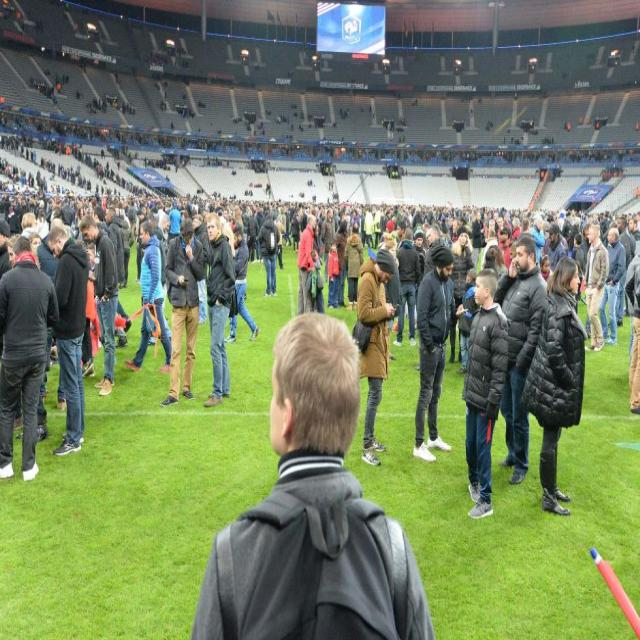body: (0, 0, 639, 215), (188, 308, 436, 640), (518, 253, 588, 518), (0, 234, 59, 483), (492, 235, 550, 486), (409, 242, 470, 464), (462, 264, 511, 522), (352, 247, 400, 466), (45, 224, 90, 457), (3, 233, 51, 449), (157, 216, 206, 410), (122, 218, 173, 374), (77, 210, 118, 397), (202, 210, 237, 408), (223, 225, 260, 345), (385, 214, 516, 246), (448, 224, 475, 364), (392, 225, 422, 348), (599, 223, 625, 345), (584, 224, 608, 353), (454, 268, 481, 378), (607, 214, 632, 329), (624, 250, 640, 417), (254, 209, 280, 298), (35, 216, 66, 287), (296, 214, 317, 318), (191, 212, 209, 327), (80, 267, 98, 380), (343, 222, 365, 312), (422, 222, 450, 278), (333, 218, 350, 310), (320, 205, 338, 282), (239, 214, 265, 264), (307, 248, 326, 315), (110, 297, 133, 349), (119, 214, 134, 288), (545, 222, 567, 272), (218, 214, 240, 262), (528, 213, 546, 270), (326, 236, 339, 310), (470, 210, 486, 270), (44, 214, 79, 240), (412, 226, 427, 282), (272, 214, 286, 272), (540, 214, 587, 231), (498, 224, 514, 272), (570, 232, 586, 280), (281, 214, 300, 250), (372, 206, 386, 250), (127, 214, 149, 242), (567, 216, 582, 253), (20, 211, 39, 240), (538, 252, 555, 283), (0, 214, 22, 237), (364, 205, 375, 250), (166, 213, 183, 239), (22, 214, 40, 236), (586, 214, 617, 226), (518, 217, 533, 240), (627, 216, 640, 242), (350, 208, 361, 235), (510, 215, 520, 241), (359, 214, 366, 247), (600, 227, 609, 250), (560, 230, 570, 242)
